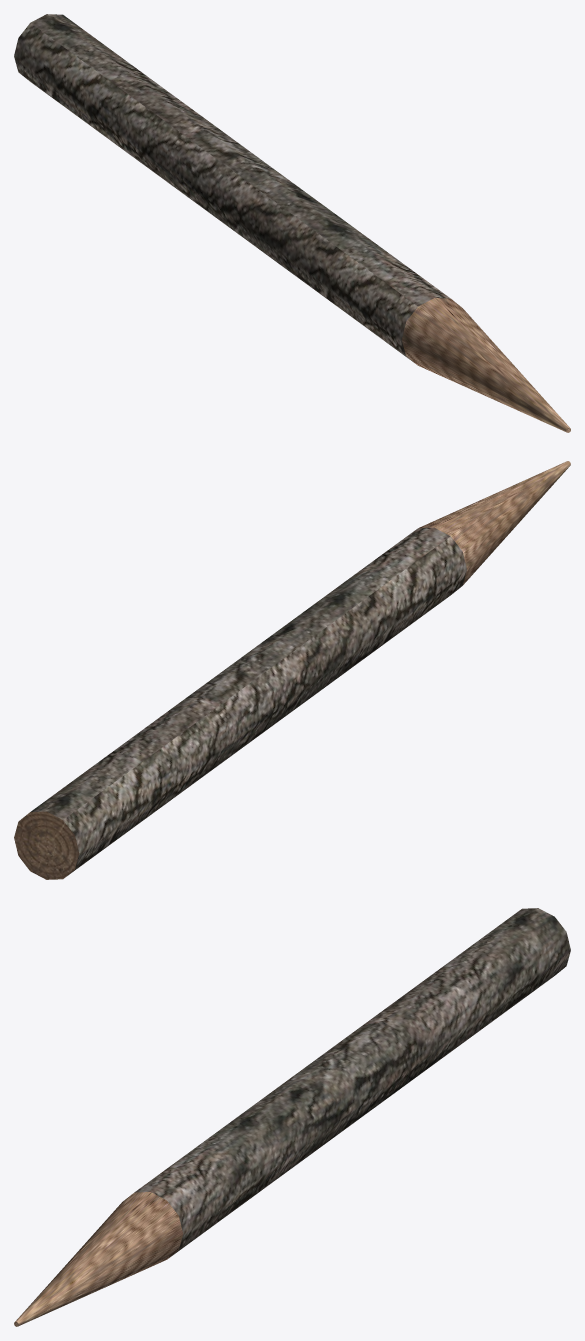
File: Arrow.obj
3 views of the same model, one above another, from view 1: azimuth 30°, elevation 25°; view 2: azimuth 150°, elevation 25°; view 3: azimuth 330°, elevation 25° (orthographic).
Parts seen in each view (by area): view 1: Cylinder006; view 2: Cylinder006; view 3: Cylinder006.
Part boxes in pixels (bbox=[...]): Cylinder006: bbox=[14, 14, 570, 432]; Cylinder006: bbox=[14, 461, 570, 879]; Cylinder006: bbox=[14, 908, 570, 1326].
Size of the model in its own units: 0.0343 by 0.0343 by 0.4746.
Materials: 1 (1 with a texture image).
